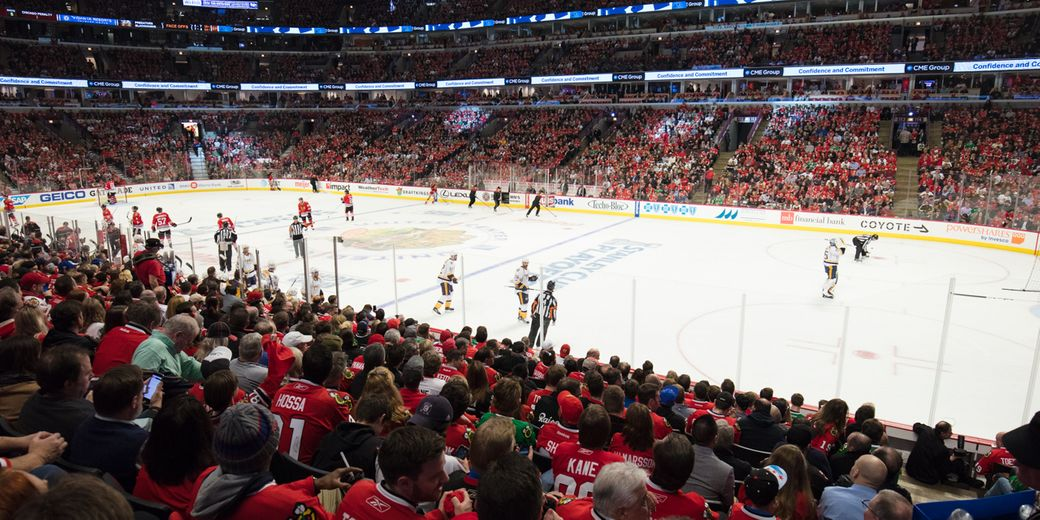Geico: (38, 187, 85, 206)
